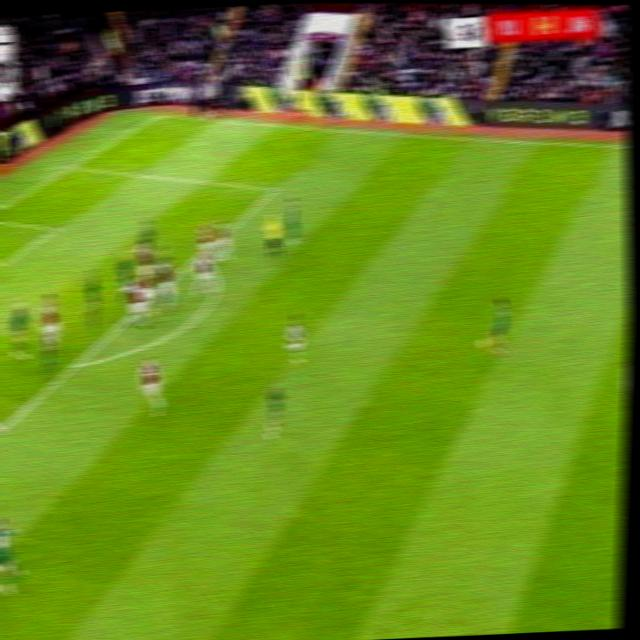bigarea_top_inner: (264, 181, 282, 199)
bigarea_top_outter: (65, 163, 77, 172)
bottom_arc_area_intersection: (69, 355, 86, 372)
corner: (152, 112, 165, 118)
smallarea_top_inner: (47, 220, 63, 237)
